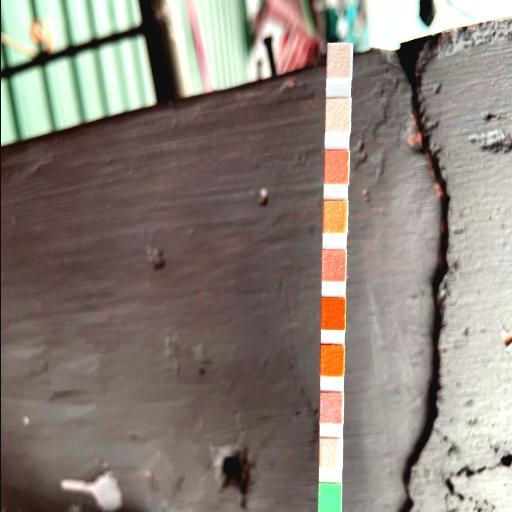Bilirubin: (318, 439, 340, 469)
Blood: (321, 299, 343, 329)
Glucose: (318, 484, 340, 512)
Ketone: (319, 393, 341, 423)
Leukocytes: (326, 44, 350, 78)
Nitrite: (326, 100, 348, 132)
Protein: (323, 202, 345, 232)
SpGravity: (320, 346, 342, 376)
Urobilinogen: (324, 152, 346, 183)
pH: (322, 250, 344, 280)
strip: (317, 43, 352, 512)
